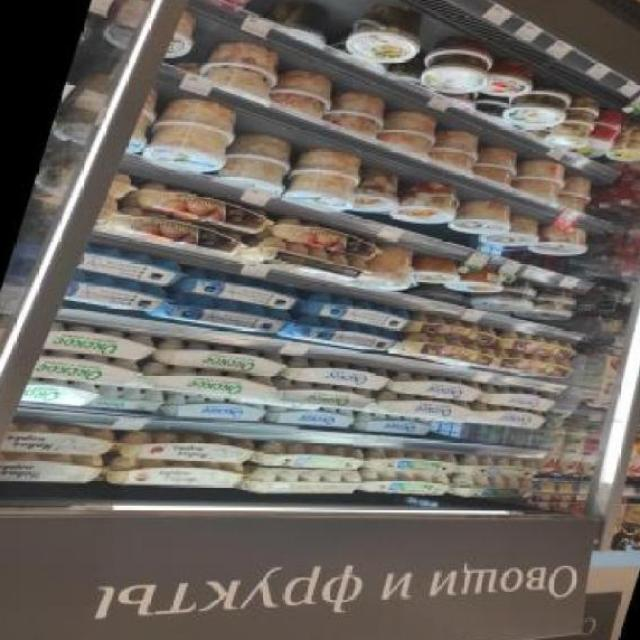Egg: (335, 1, 438, 65), (105, 453, 246, 498), (143, 292, 292, 334), (116, 427, 257, 469), (134, 363, 281, 401), (149, 338, 291, 377), (170, 273, 307, 310), (0, 446, 110, 492), (284, 290, 416, 328), (73, 245, 192, 287), (197, 38, 289, 91), (279, 313, 400, 353), (41, 322, 160, 362), (0, 421, 120, 460), (143, 124, 234, 174), (251, 439, 368, 477), (28, 349, 145, 387), (62, 276, 175, 315), (280, 356, 395, 392), (386, 180, 468, 228), (390, 335, 501, 369), (277, 170, 363, 213), (411, 54, 496, 97), (492, 90, 577, 133), (399, 313, 502, 347), (162, 394, 271, 426), (266, 68, 338, 116), (264, 379, 375, 410), (386, 371, 490, 403), (366, 392, 473, 423), (323, 90, 392, 137), (210, 156, 291, 196), (356, 467, 451, 499), (364, 446, 460, 477), (377, 109, 441, 155), (449, 472, 540, 504), (490, 349, 581, 381), (355, 244, 418, 290), (341, 168, 404, 214), (454, 453, 545, 482), (290, 145, 368, 178), (495, 331, 582, 360), (263, 403, 356, 430), (222, 132, 300, 164), (88, 384, 170, 414), (470, 145, 530, 186), (510, 160, 571, 200), (427, 130, 488, 170), (465, 403, 549, 432), (480, 59, 539, 100), (452, 200, 515, 237), (474, 385, 559, 412), (350, 412, 434, 437), (20, 378, 90, 407), (530, 226, 592, 258), (483, 216, 545, 248), (552, 175, 601, 214), (405, 257, 464, 286), (470, 289, 534, 314), (451, 269, 509, 295), (520, 299, 577, 323)
